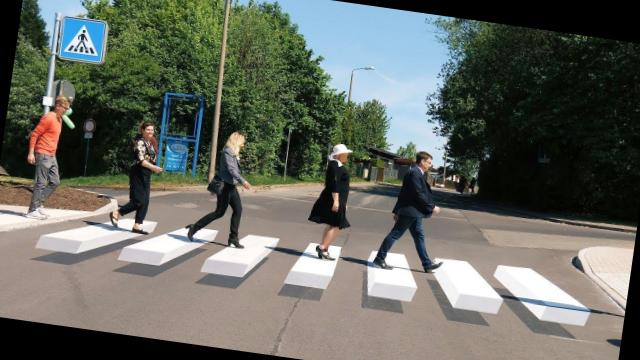crosswalk-sign: (57, 15, 110, 66)
